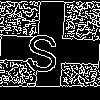S: (25, 25, 60, 73)
